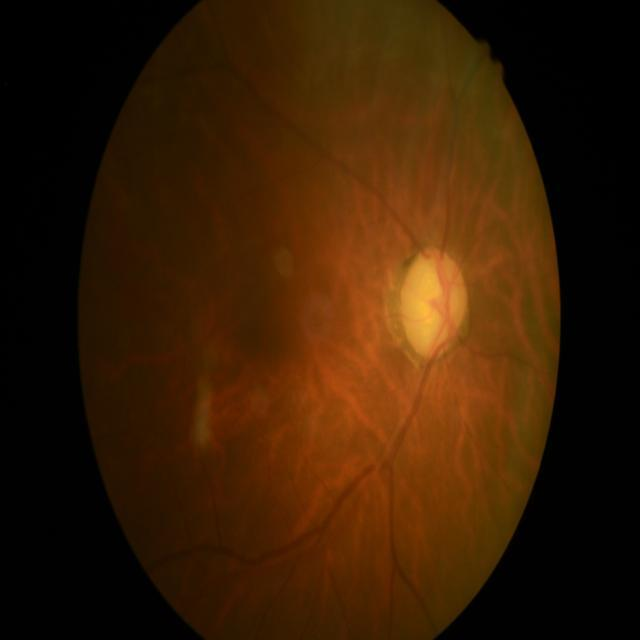cup: (409, 258, 454, 345)
disk: (400, 246, 470, 360)
